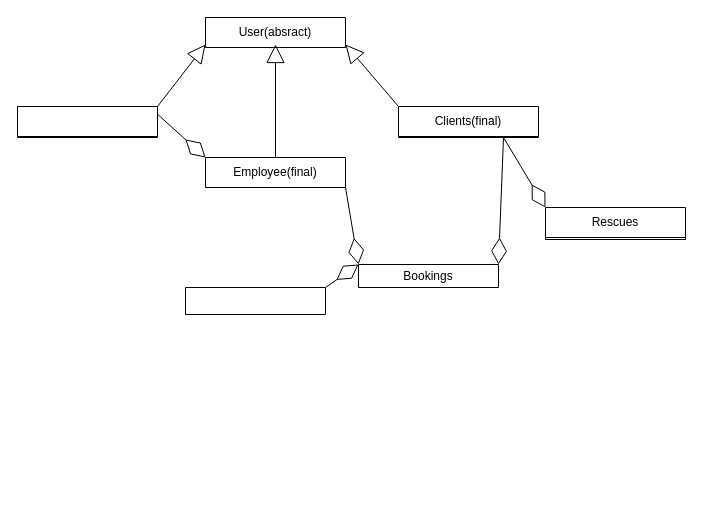
This 703x516 diagram has some shape labels left out. The shapes that lost their labels are listed below. From the top down, each one's box as (x1, y1, x2, y2) in pixels, then its label:
(16, 106, 158, 138): Manager(final)
(184, 286, 326, 314): Cat
